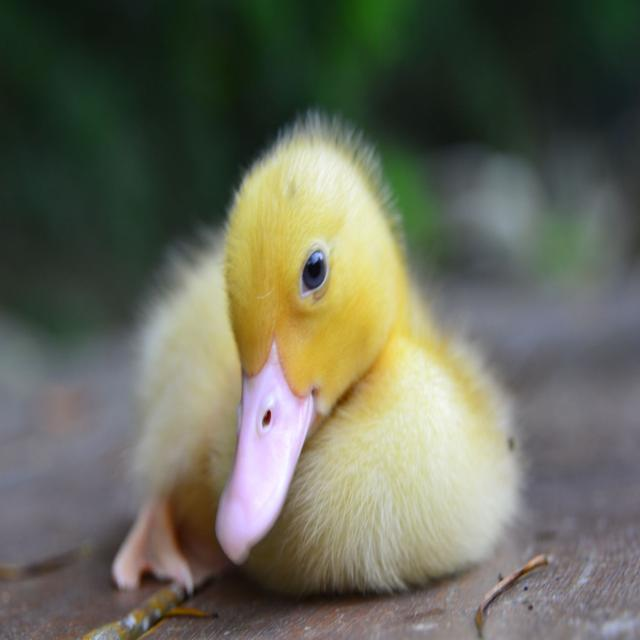Duck: (120, 103, 518, 595)
